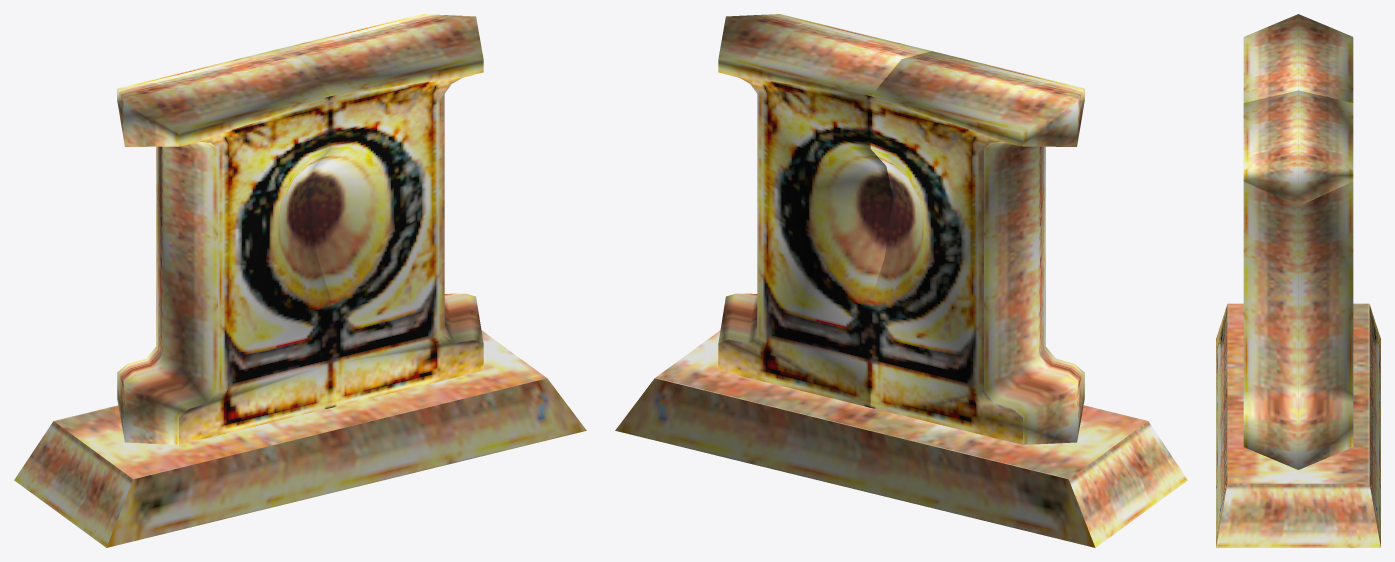
Rendered from static.ico.obj.
3 renders of one model, left to right at view 1: azimuth 30°, elevation 25°; view 2: azimuth 150°, elevation 25°; view 3: azimuth 270°, elevation 25°, orthographic. The views are drawn at different scales.
Bounding box in the file's own units: 4.5 × 3.55 × 1.5.
1 material, 1 textured.
